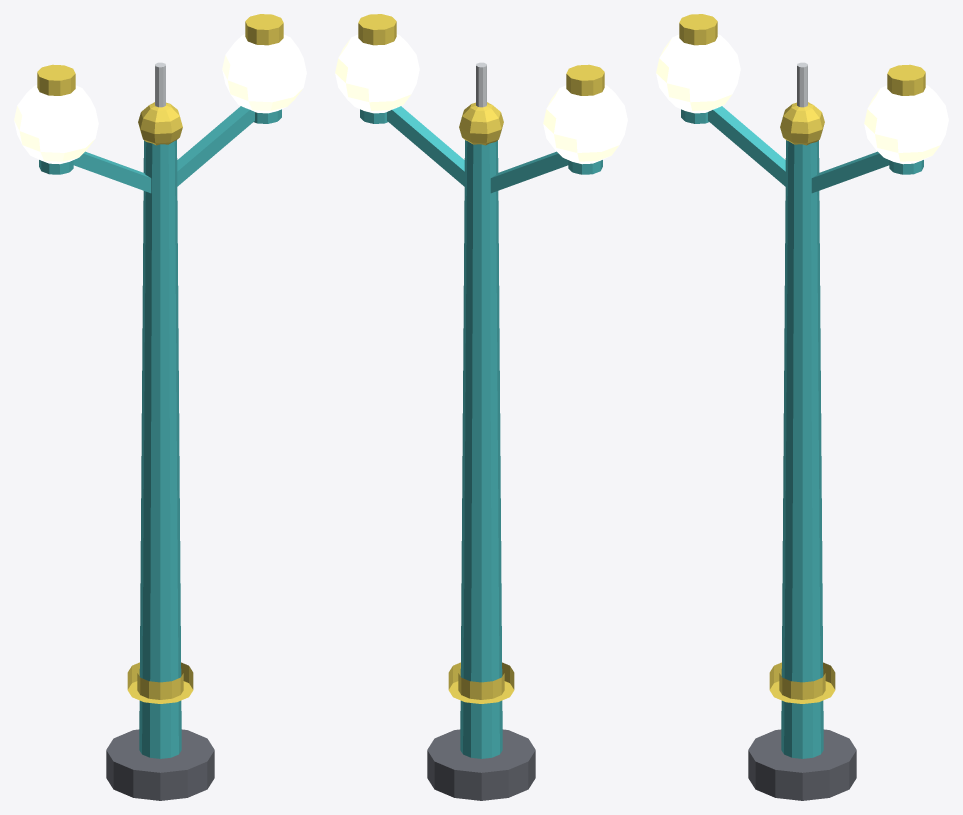
File: theme-park-rides-and-coasters-theme-park-rides-and-coa-dfe07acb__28706.glb
3 views of the same model, side by side, from view 1: azimuth 30°, elevation 25°; view 2: azimuth 150°, elevation 25°; view 3: azimuth 330°, elevation 25° (orthographic).
Visible parts, largest first — view 1: theme-park-rides-and-coasters-lamp-post-double; view 2: theme-park-rides-and-coasters-lamp-post-double; view 3: theme-park-rides-and-coasters-lamp-post-double.
Boxes of the visible parts, x1=… form: theme-park-rides-and-coasters-lamp-post-double: x1=14, y1=14, x2=306, y2=800; theme-park-rides-and-coasters-lamp-post-double: x1=335, y1=14, x2=627, y2=800; theme-park-rides-and-coasters-lamp-post-double: x1=656, y1=14, x2=948, y2=800.
Bounding box in the file's own units: 1.68 × 4.16 × 0.56.
